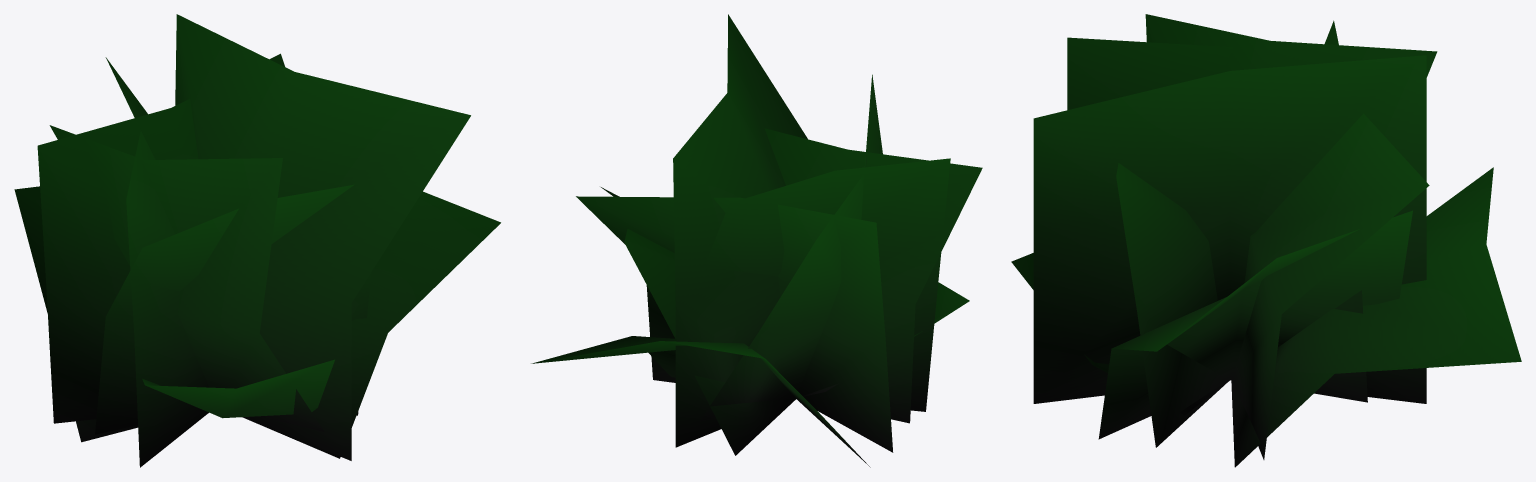
File: FlowerBushDeadCATAM_A.fbx
3 views of the same model, side by side, from view 1: azimuth 30°, elevation 25°; view 2: azimuth 150°, elevation 25°; view 3: azimuth 270°, elevation 25° (orthographic). The views are drawn at different scales.
Parts seen in each view (by area): view 1: FlowerBushDeadCATAM_A; view 2: FlowerBushDeadCATAM_A; view 3: FlowerBushDeadCATAM_A.
Boxes of the visible parts, x1,y1,x2,y2 form: FlowerBushDeadCATAM_A: [14, 14, 500, 467]; FlowerBushDeadCATAM_A: [531, 14, 982, 467]; FlowerBushDeadCATAM_A: [1011, 14, 1521, 467].
Size of the model in its own units: 1.4 by 1.19 by 1.43.
